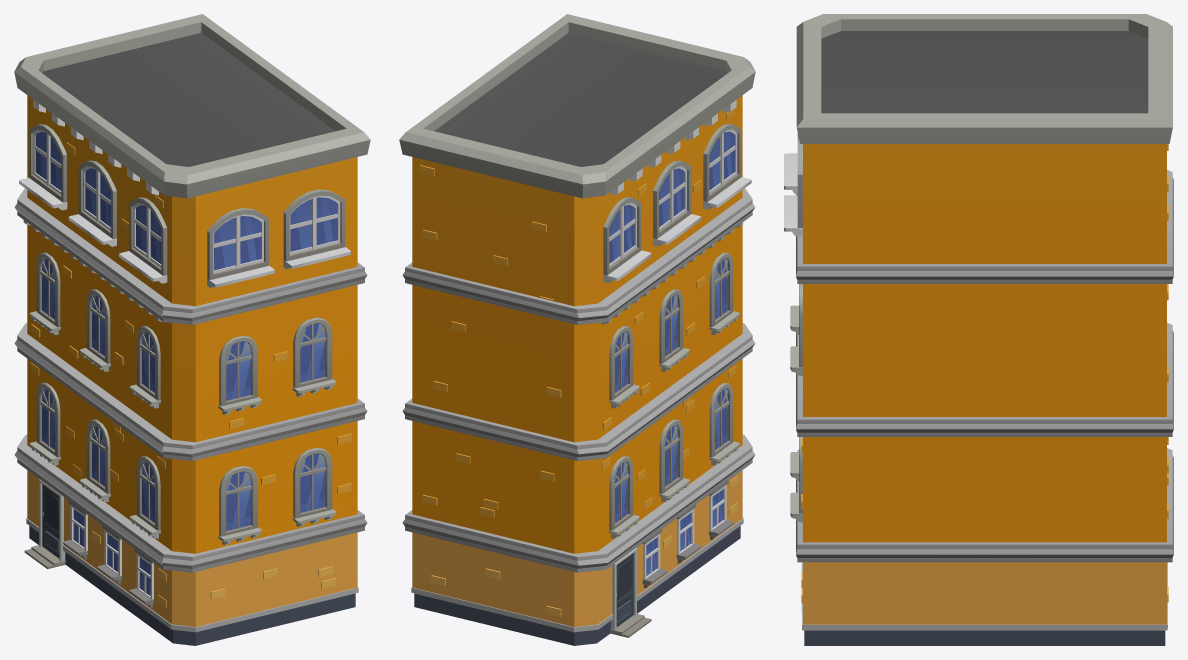
Rendered from Building_18_2_I.fbx.
The picture shows the model from 3 angles, left to right: view 1: azimuth 30°, elevation 25°; view 2: azimuth 150°, elevation 25°; view 3: azimuth 270°, elevation 25°; orthographic projection. The views are drawn at different scales.
Visible parts, largest first — view 1: Building_18_2_I; view 2: Building_18_2_I; view 3: Building_18_2_I.
Boxes of the visible parts, box(x1,y1,x2,y2) form: Building_18_2_I: box(14, 14, 370, 645); Building_18_2_I: box(399, 14, 755, 645); Building_18_2_I: box(784, 14, 1173, 645).
Size of the model in its own units: 719 by 1594 by 1059.
